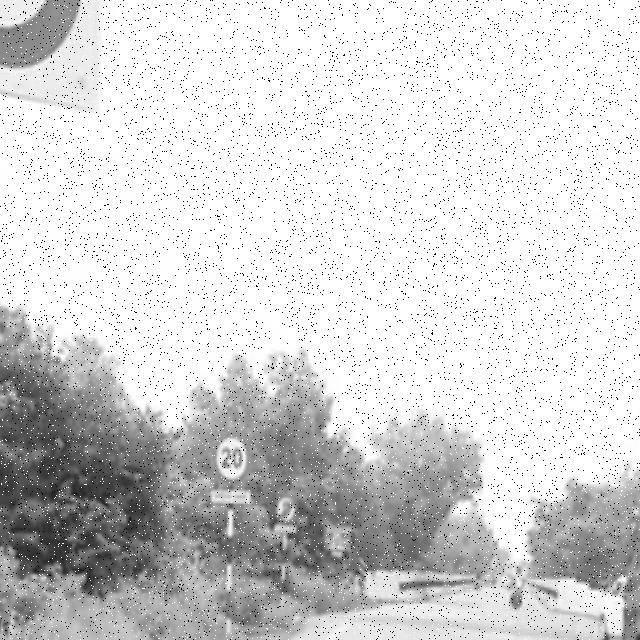No_parking: (270, 490, 302, 530)
speedlimit_20: (204, 432, 260, 489)
